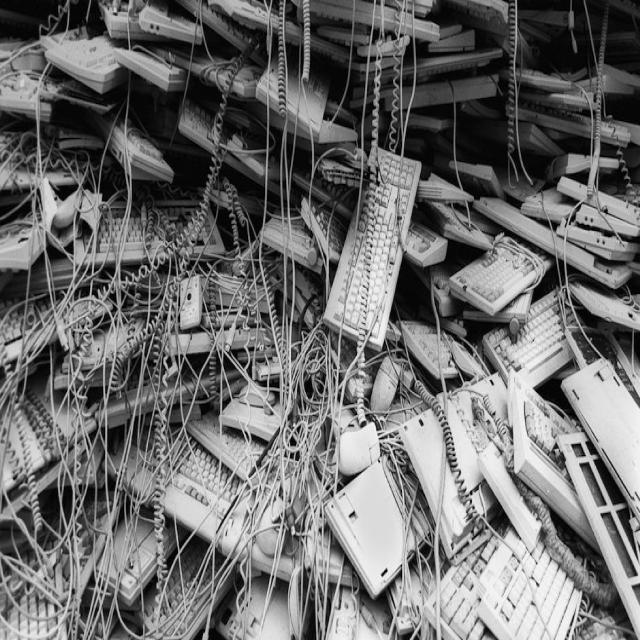Hazard: (2, 0, 637, 640)
